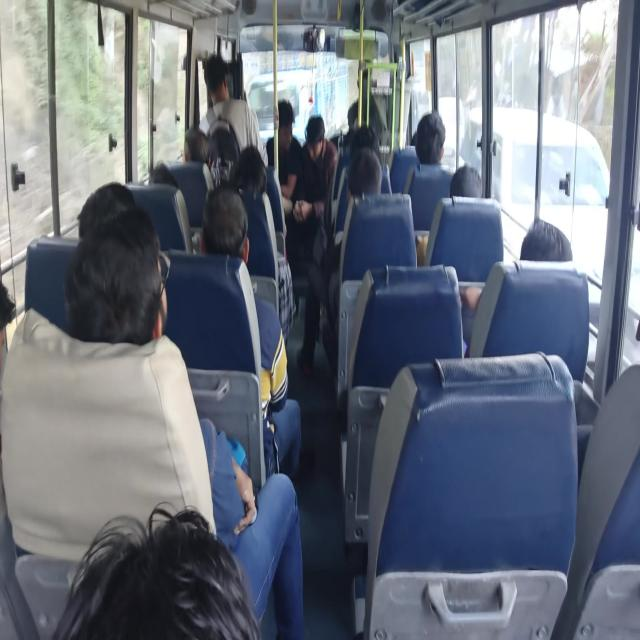person: (63, 187, 304, 638), (199, 184, 302, 481), (52, 501, 262, 639), (296, 146, 382, 375), (460, 217, 572, 356), (198, 53, 268, 168), (292, 115, 338, 262), (416, 164, 482, 266), (265, 98, 303, 216), (520, 218, 572, 262), (415, 110, 445, 164), (449, 164, 482, 198)
